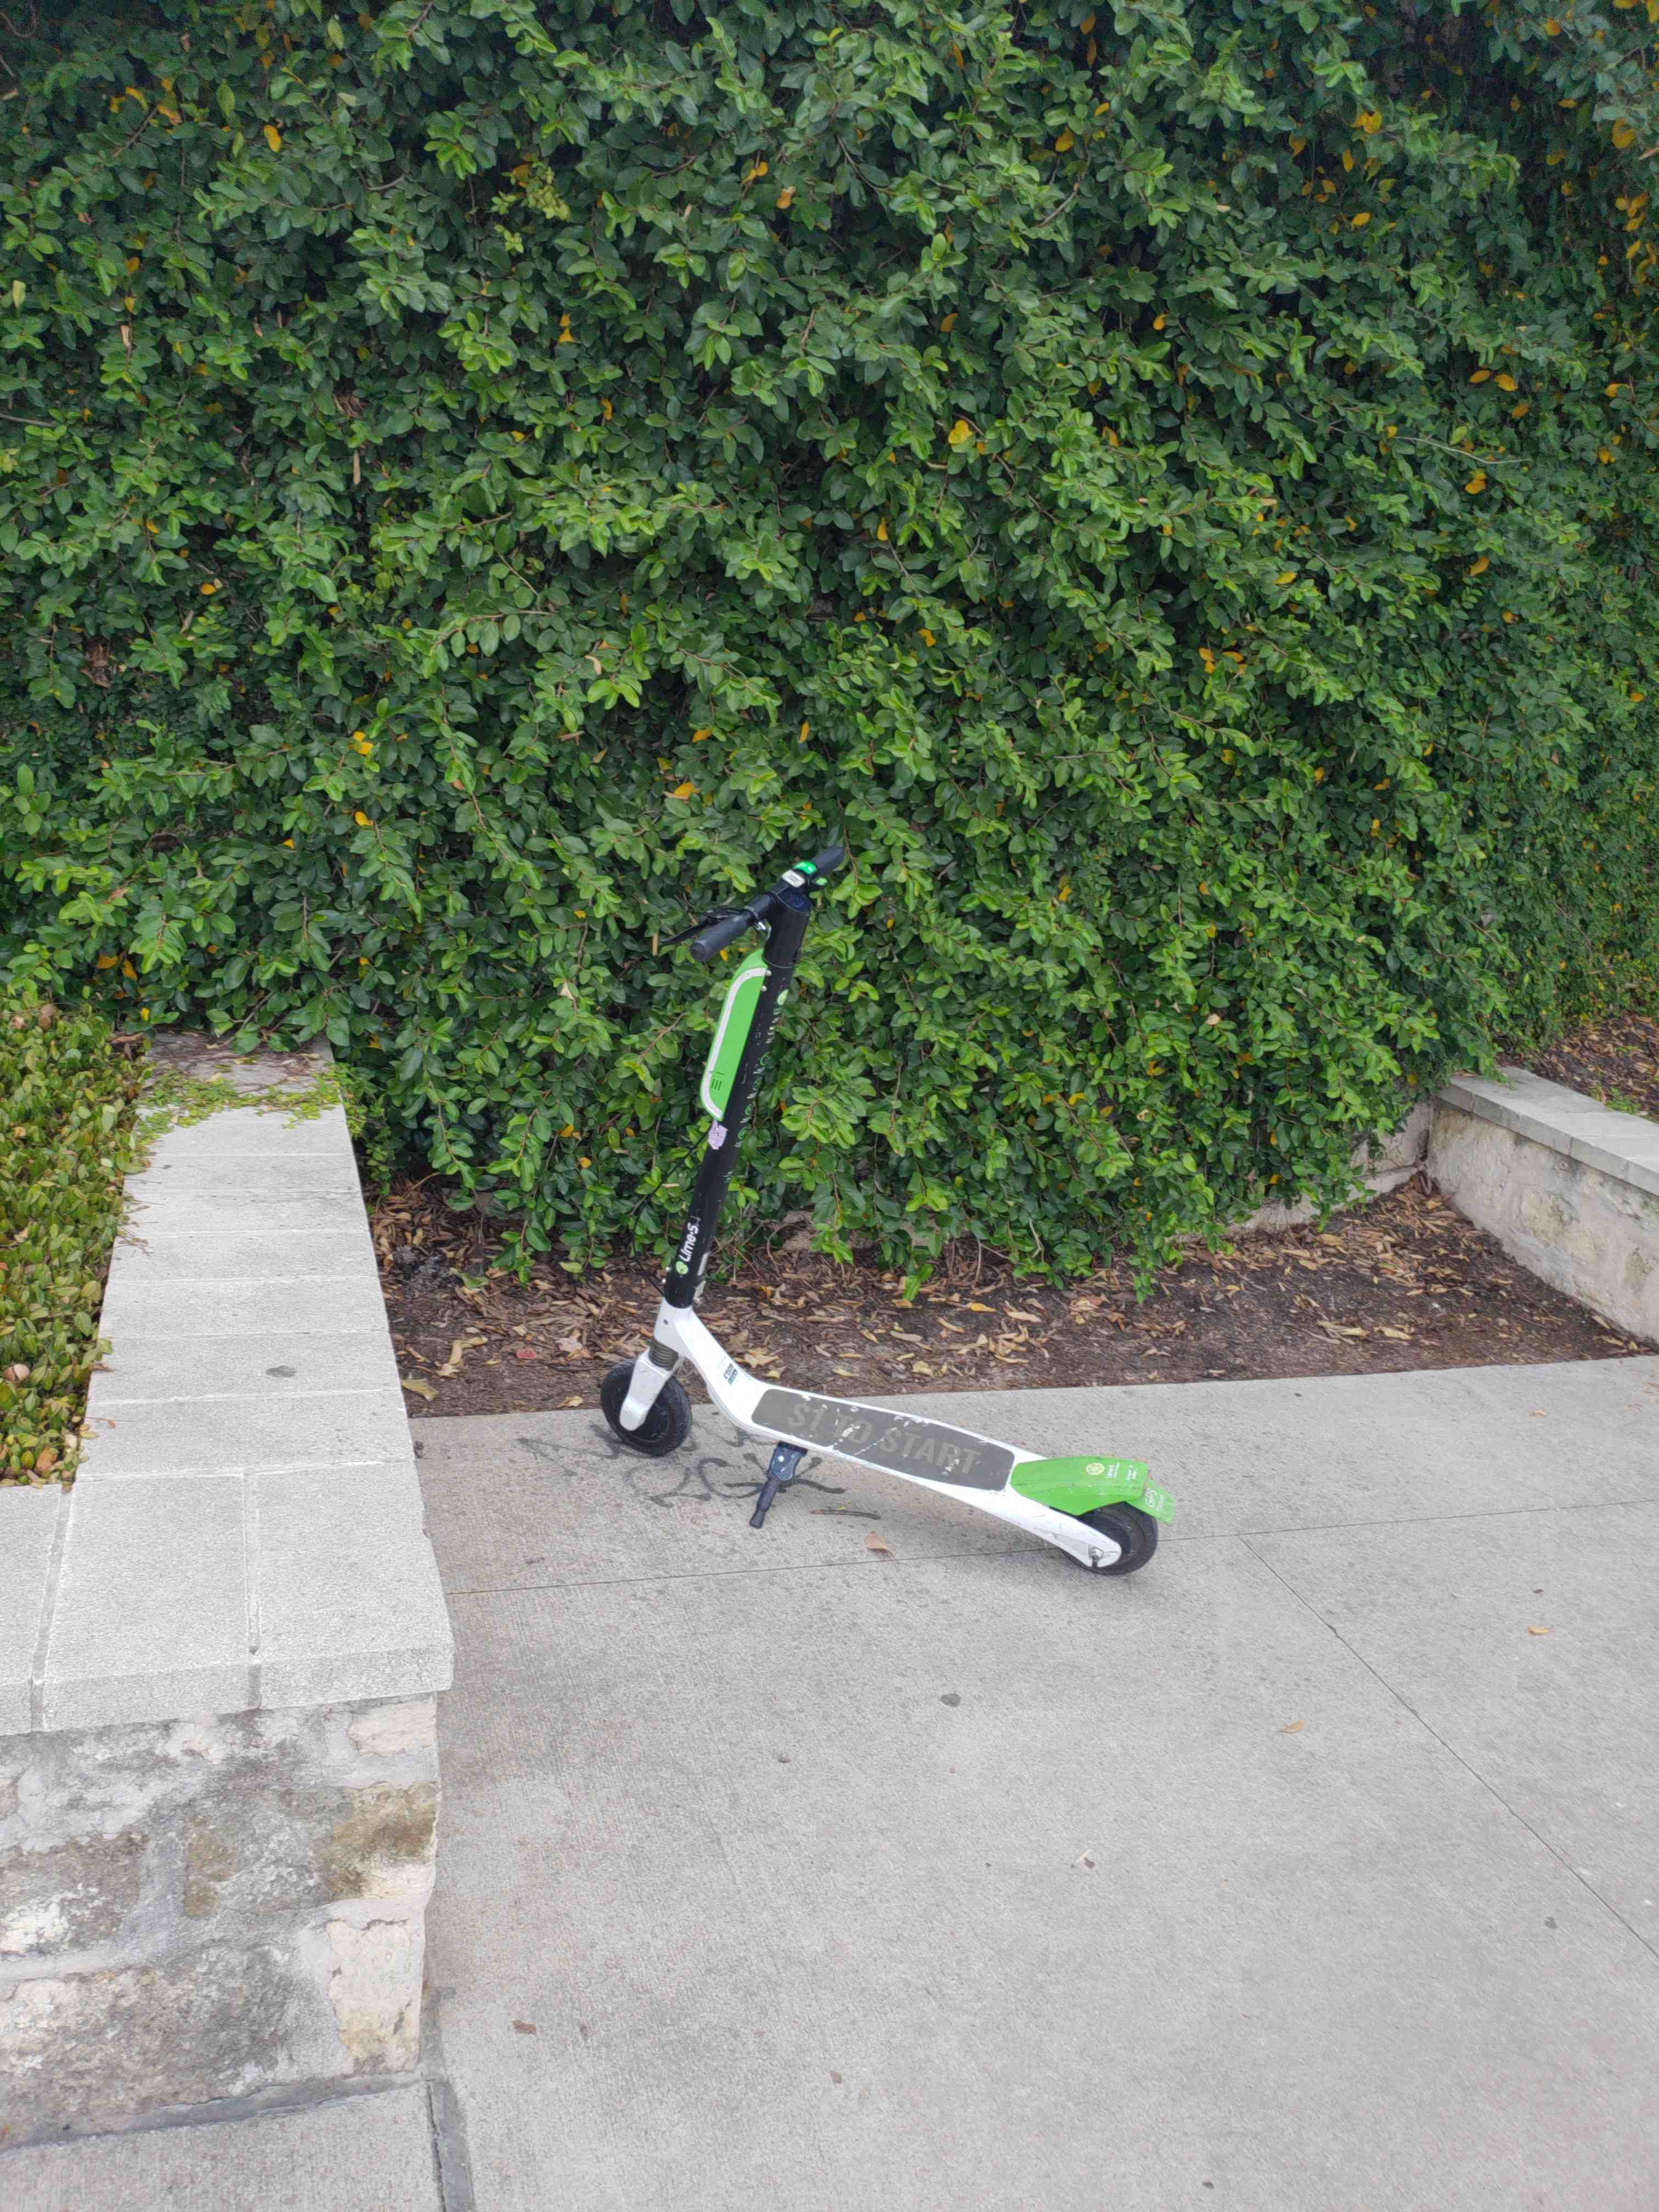scooter: (552, 786, 1188, 1609)
